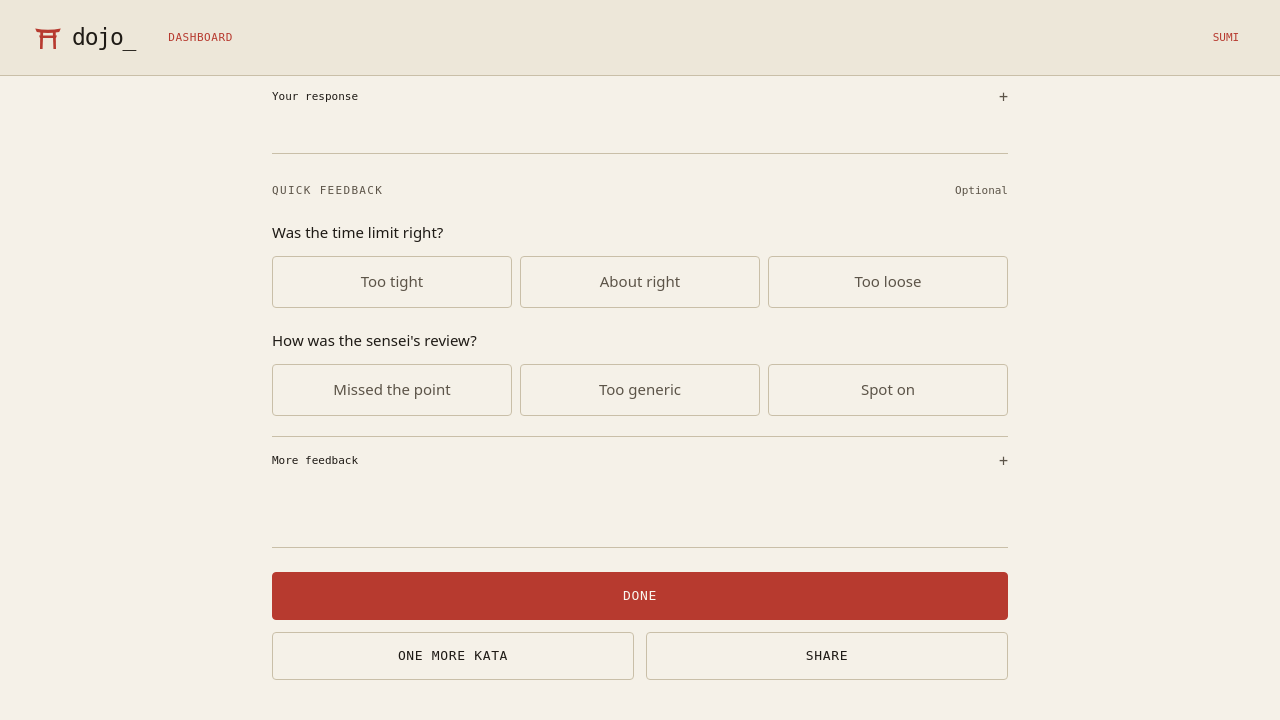
Test: ResultsPage › copies the share link where there is no system sheet
The image size is (1280, 720).
(page scrolled)
What coordinates should you click on to do the following:
click the button "Share"
I would click on:
 (827, 656)
Its box is [646,632,1008,680].
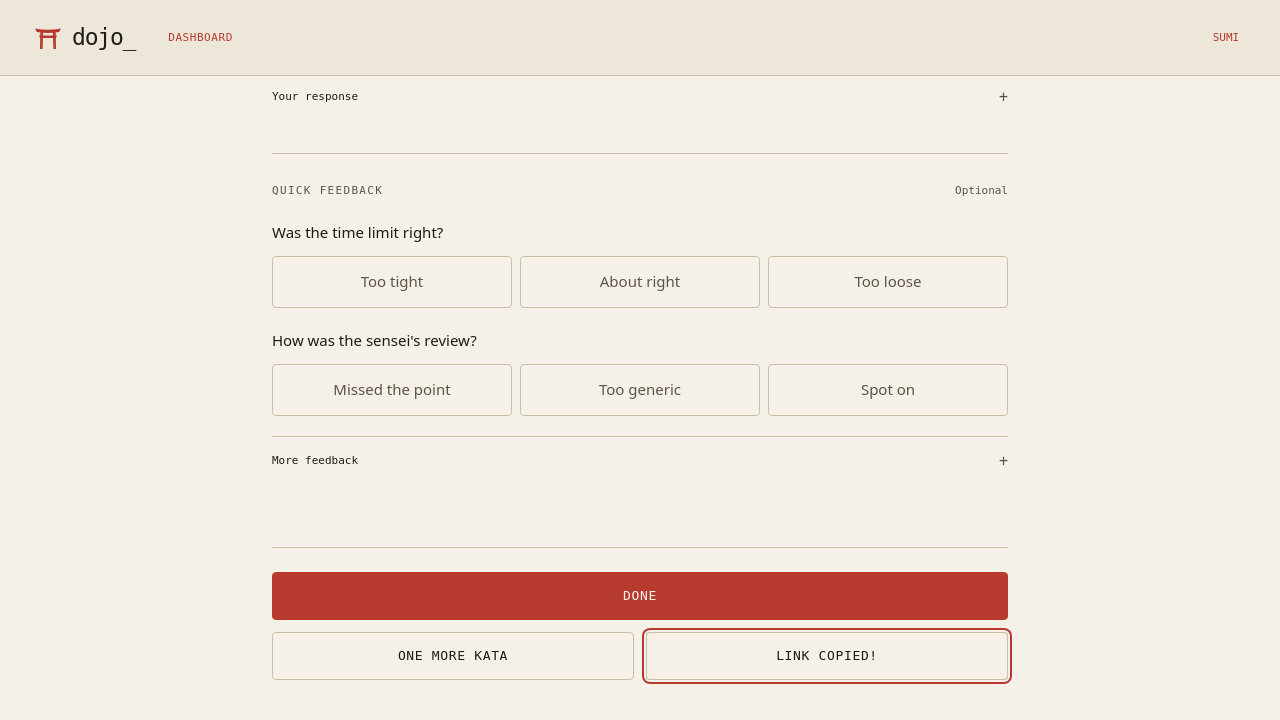
Now the text "Link copied!" is shown, box [776,646,878,666]
